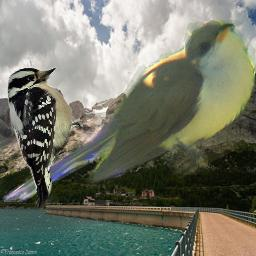Cuckoo: (0, 20, 255, 202)
Woodpecker: (5, 64, 95, 211)
